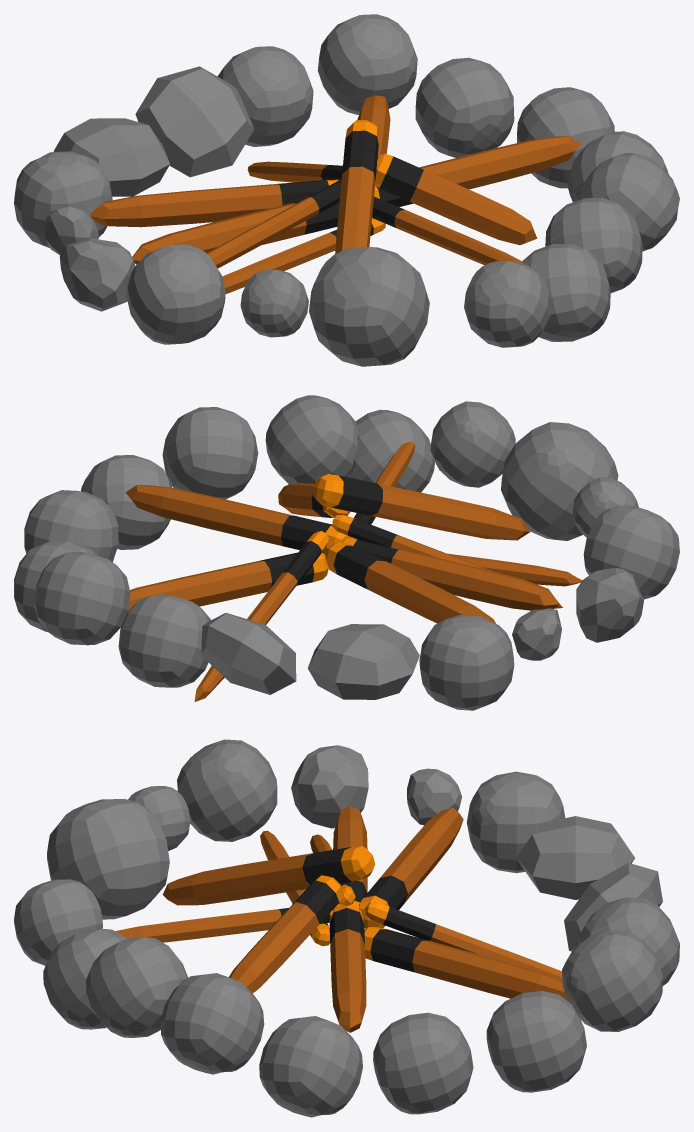
The model's file is Fogueira.fbx.
3 renders of one model, top to bottom at view 1: azimuth 30°, elevation 25°; view 2: azimuth 150°, elevation 25°; view 3: azimuth 270°, elevation 25°, orthographic. The views are drawn at different scales.
Visible parts, largest first — view 1: Fogueira; view 2: Fogueira; view 3: Fogueira.
Part boxes in pixels (x1,y1,x2,y2): Fogueira: (14,14,679,366); Fogueira: (14,395,679,710); Fogueira: (14,739,679,1117).
Bounding box in the file's own units: 489 × 118 × 474.
